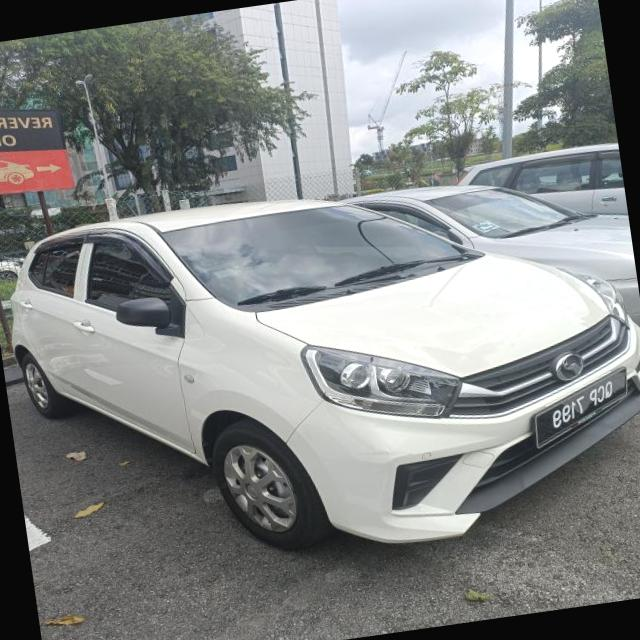PeroduaAxia: (0, 146, 640, 596)
